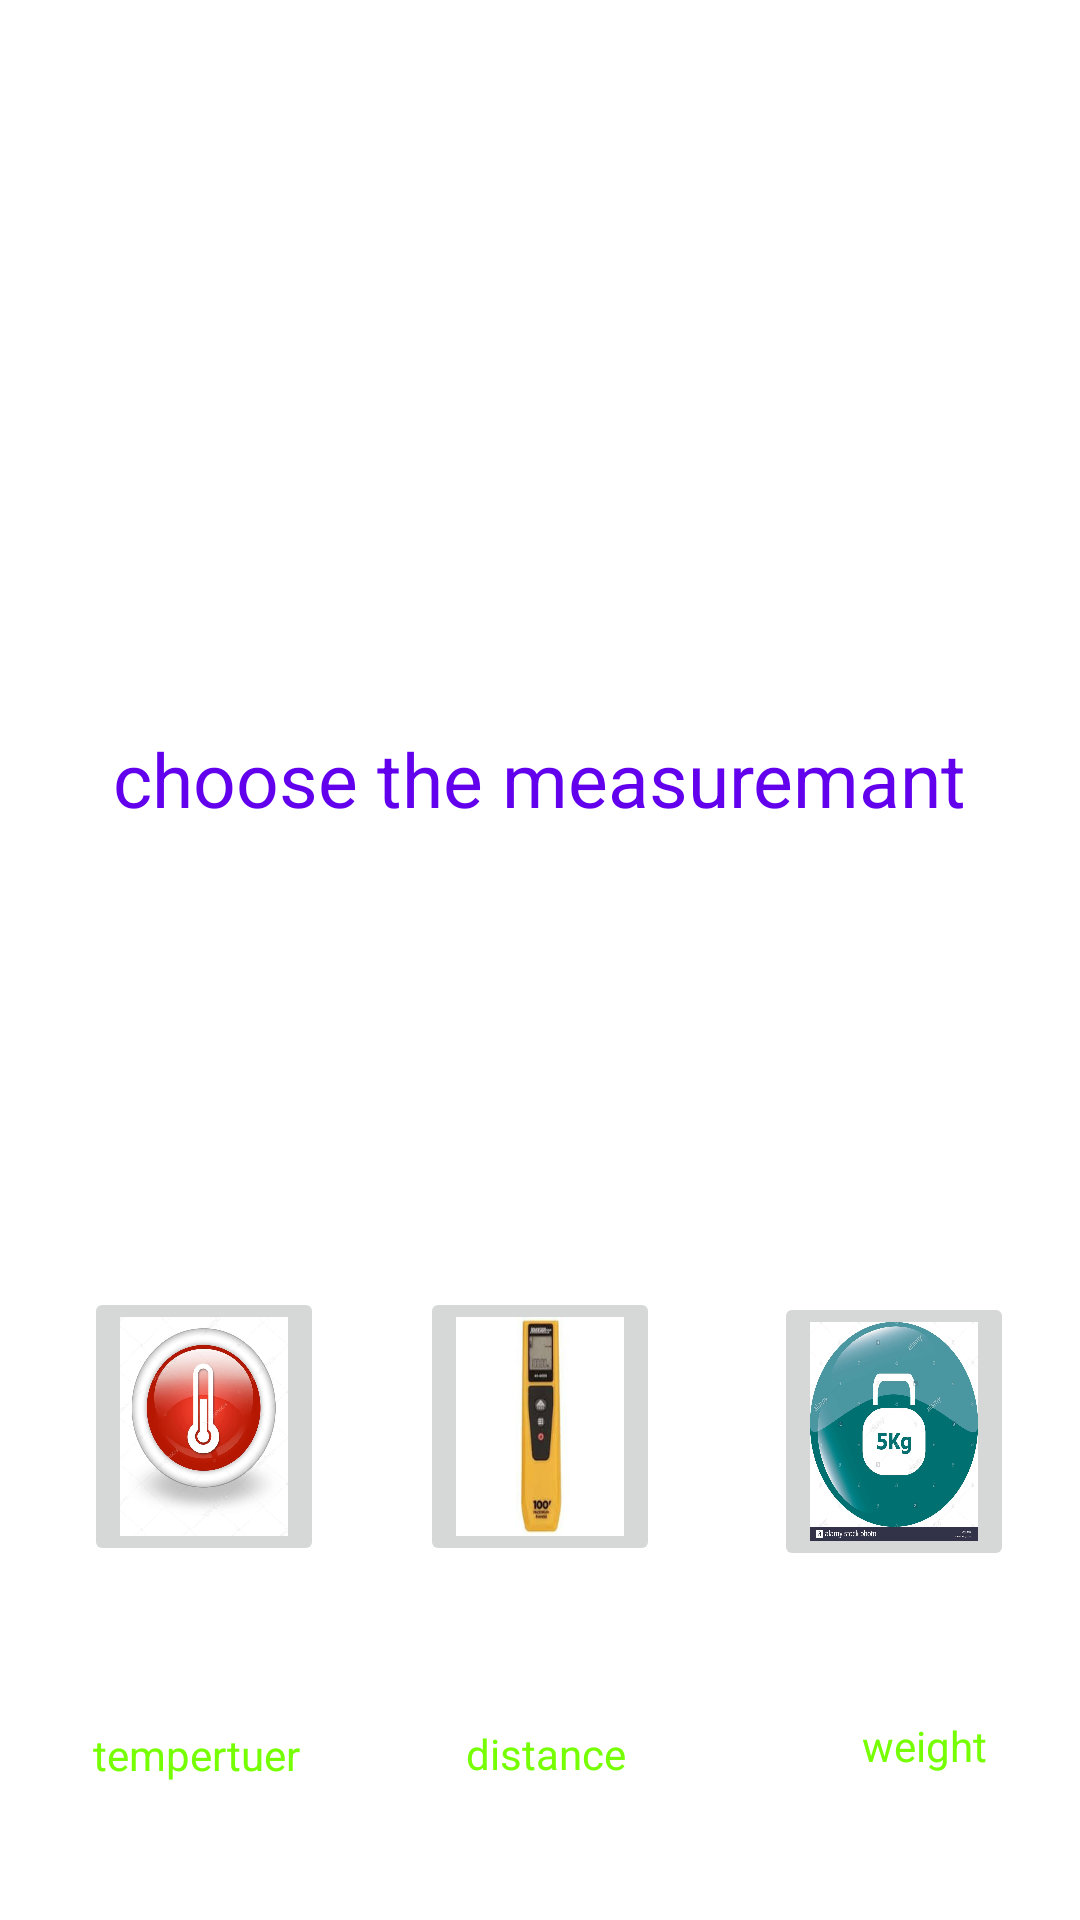

Named icons in this screenshot (1080x1920) and their centers, (x,y):
distance: (540,1426)
temperature: (204,1426)
